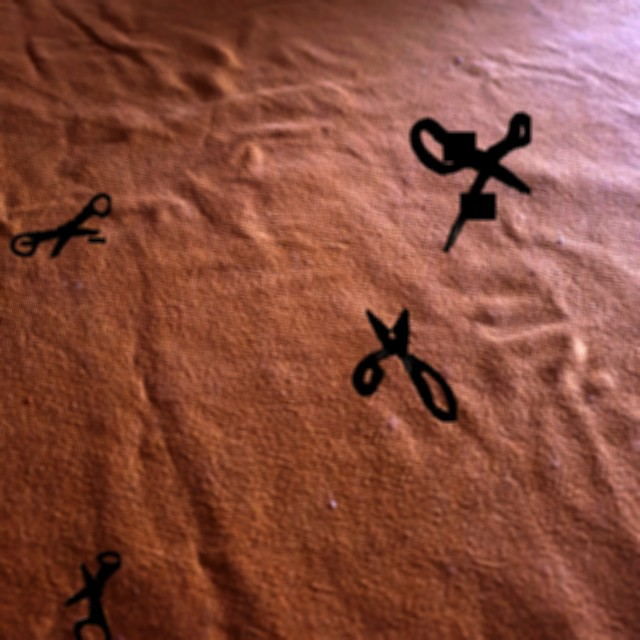scissors: (410, 112, 531, 252), (351, 308, 457, 422), (9, 193, 111, 258), (64, 551, 121, 640)
